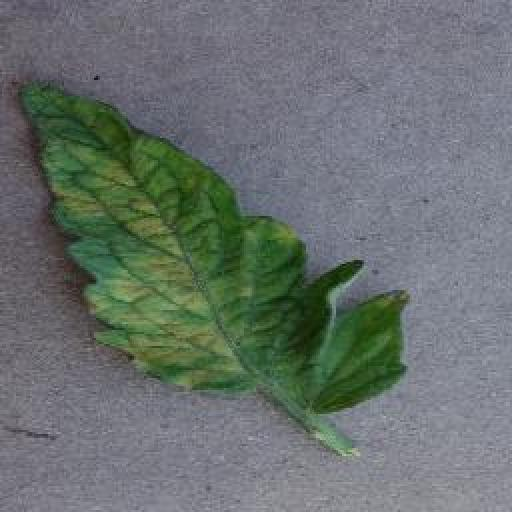disease_tomato: (11, 72, 414, 415)
